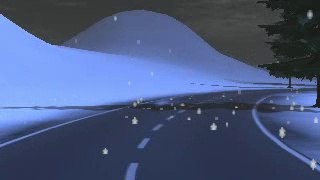Lane: (1, 88, 319, 179)
